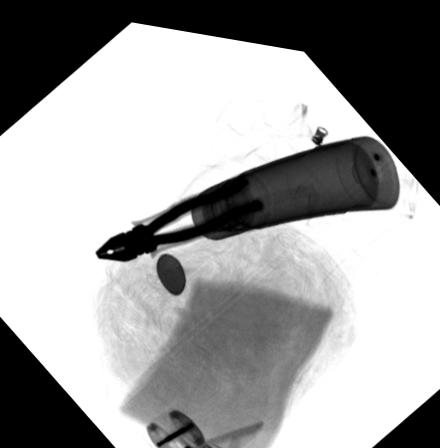Pliers: (94, 167, 266, 257)
